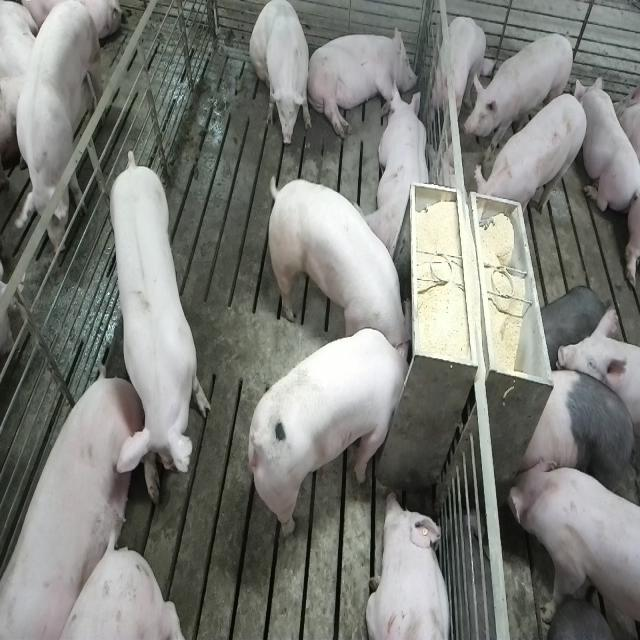Feeding: (251, 328, 420, 540), (262, 173, 410, 359)
Lateral_lying: (306, 22, 418, 141)
Sitting: (250, 0, 312, 148)
Standing: (106, 149, 211, 505), (8, 4, 106, 275), (504, 455, 638, 640), (515, 367, 637, 511), (475, 92, 589, 229), (465, 30, 576, 157), (430, 14, 485, 137)
Sternal_lying: (367, 490, 454, 640), (366, 85, 432, 263), (579, 73, 638, 220)
